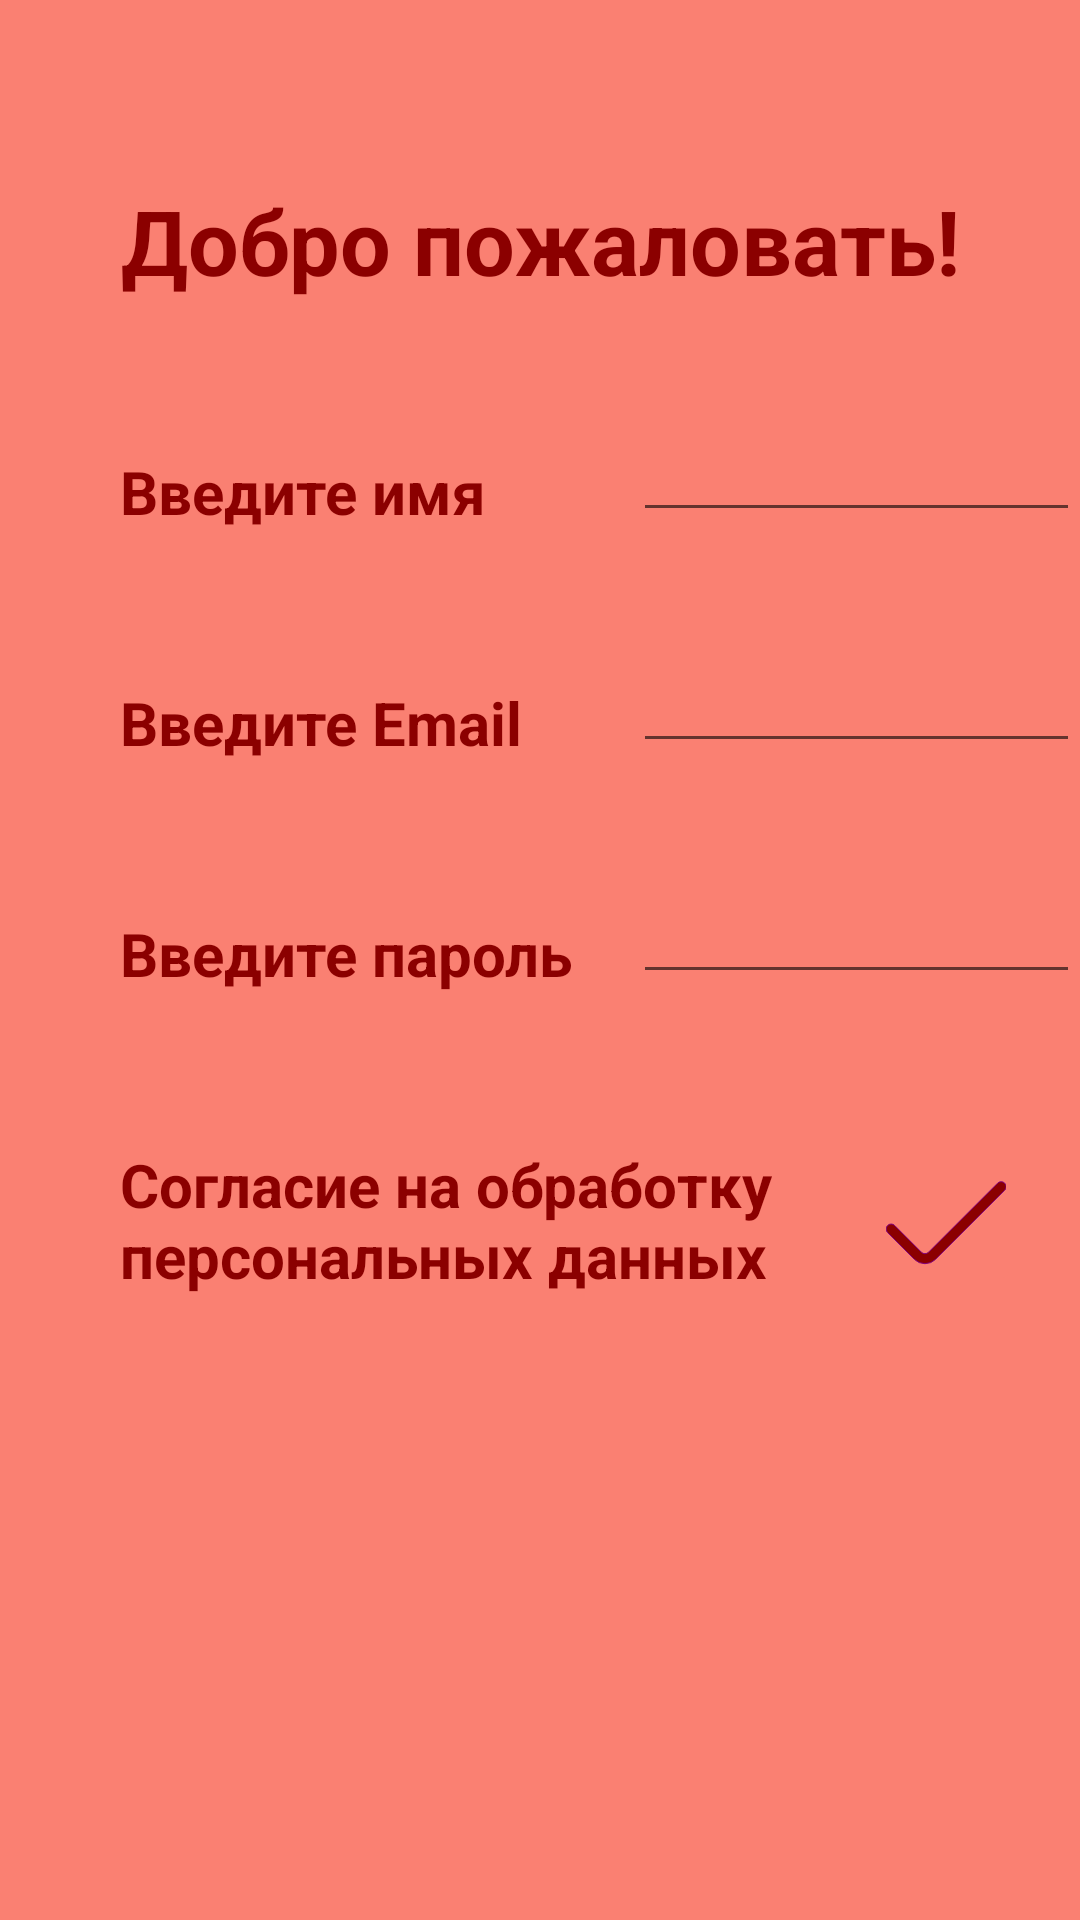

Named icons in this screenshot (1080px x 1920px) and their centers, (x=x, y=y):
free font check: (x=946, y=1222)
